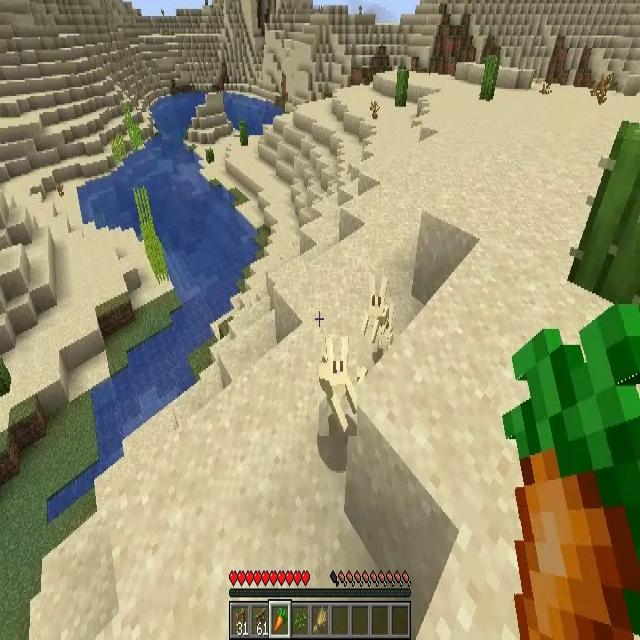rabbit: (320, 337, 358, 436), (364, 272, 392, 350)
